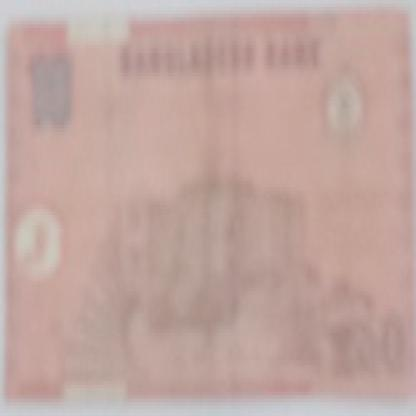Ten Taka: (22, 42, 82, 138), (361, 312, 406, 381)
